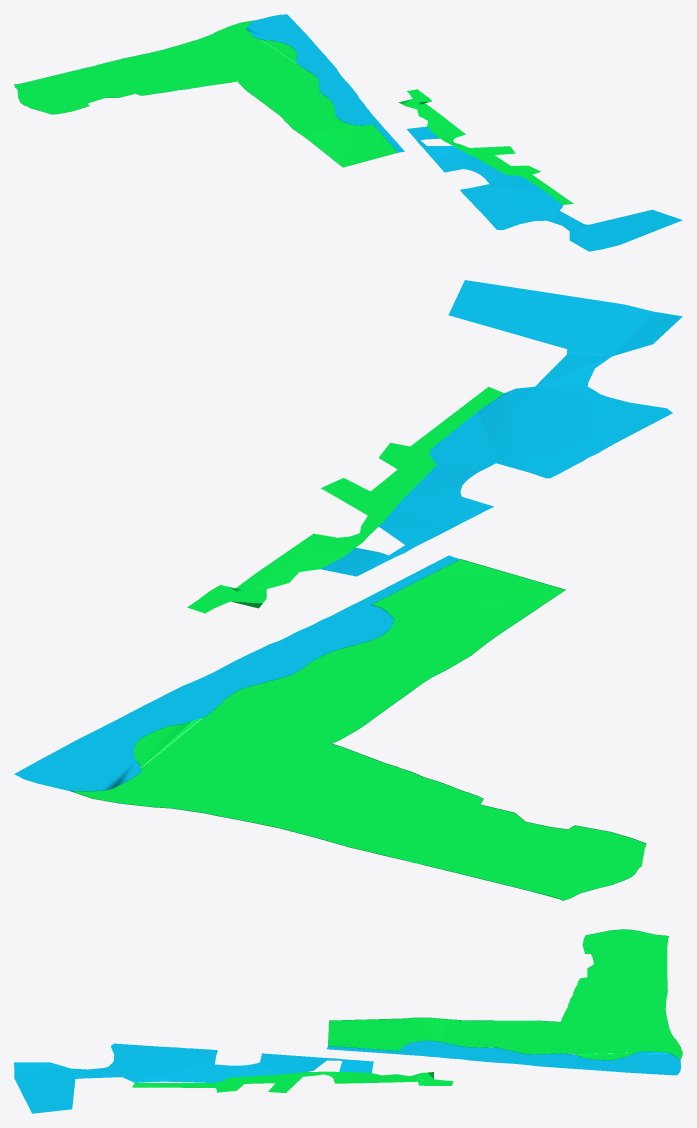
Rendered from planos_a.fbx.
3 views of the same model, one above another, from view 1: azimuth 30°, elevation 25°; view 2: azimuth 150°, elevation 25°; view 3: azimuth 270°, elevation 25° (orthographic). The views are drawn at different scales.
Parts seen in each view (by area): view 1: PolyShape__1_, PolyShape, PolyShape_1, er; view 2: PolyShape__1_, PolyShape, PolyShape_1, er; view 3: PolyShape__1_, PolyShape, PolyShape_1, er.
Part boxes in pixels (<box>): PolyShape__1_: <box>14,20,397,167</box>; PolyShape: <box>407,126,682,251</box>; PolyShape_1: <box>246,14,404,152</box>; er: <box>398,89,573,204</box>; PolyShape__1_: <box>70,559,646,900</box>; PolyShape: <box>321,280,682,576</box>; PolyShape_1: <box>14,555,459,791</box>; er: <box>187,386,504,613</box>; PolyShape__1_: <box>328,929,682,1060</box>; PolyShape: <box>14,1043,373,1113</box>; PolyShape_1: <box>327,1041,680,1075</box>; er: <box>132,1071,453,1093</box>.
Size of the model in its own units: 191446 by 2547 by 288516.
